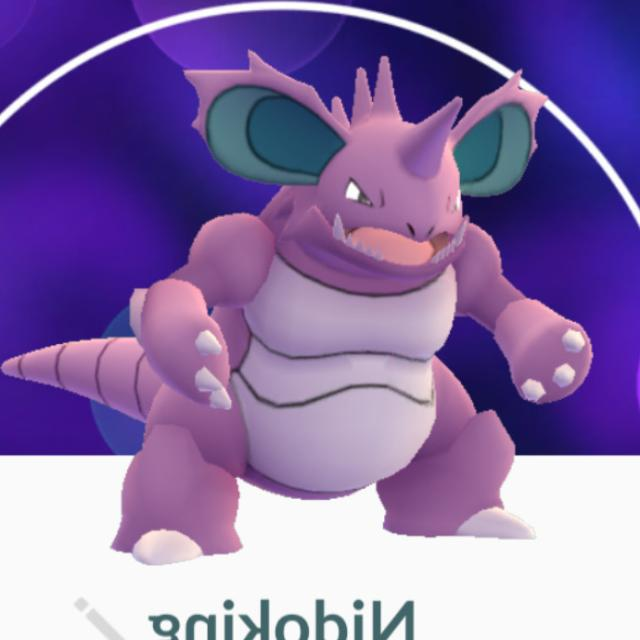Nidoking: (112, 69, 550, 546)
